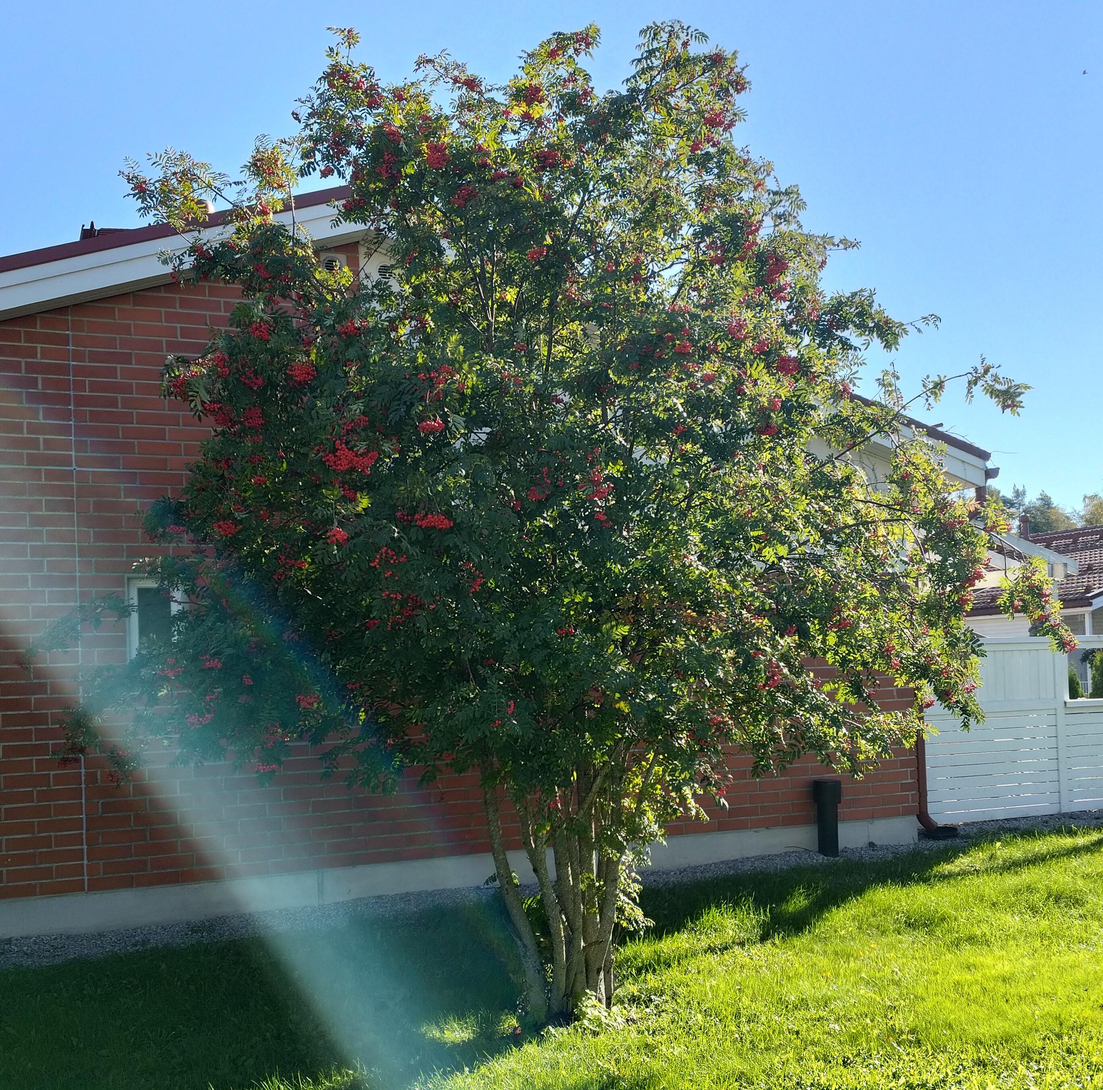Rowan: (176, 26, 989, 1045)
